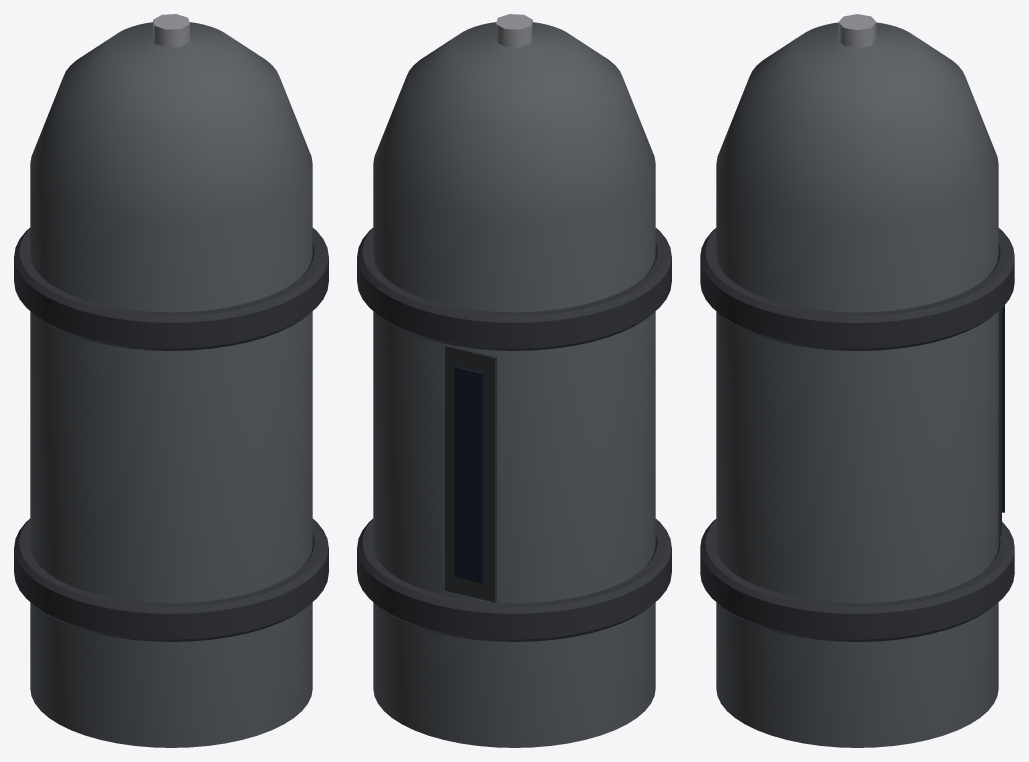
Rendered from cl180_fluid.obj.
3 renders of one model, left to right at view 1: azimuth 30°, elevation 25°; view 2: azimuth 150°, elevation 25°; view 3: azimuth 270°, elevation 25°, orthographic.
Parts seen in each view (by area): view 1: cl180_fluid; view 2: cl180_fluid; view 3: cl180_fluid.
Part boxes in pixels (<box>): cl180_fluid: <box>14,14,328,747</box>; cl180_fluid: <box>357,14,671,747</box>; cl180_fluid: <box>700,14,1014,747</box>.
Size of the model in its own units: 0.49 by 1.15 by 0.49.
